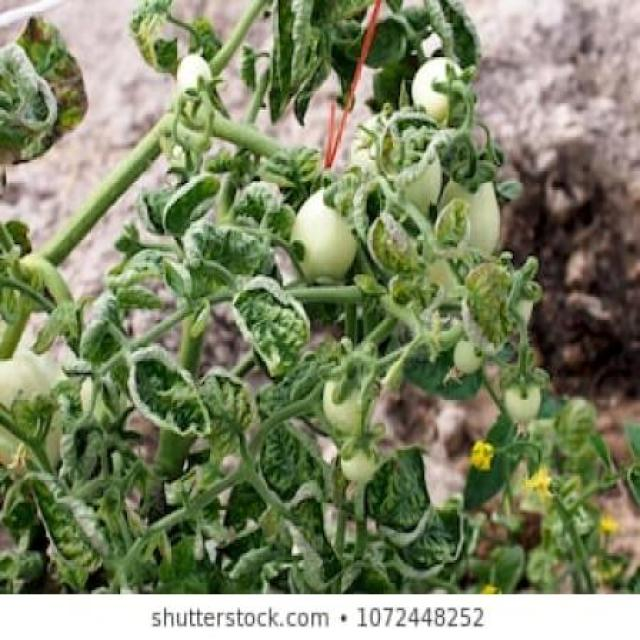Yellow Leaf Curl Virus: (23, 457, 117, 584), (225, 276, 318, 375), (359, 430, 434, 551), (127, 343, 214, 438), (260, 421, 330, 516), (463, 258, 514, 375), (232, 172, 298, 255), (364, 205, 435, 282), (188, 214, 281, 270), (190, 368, 256, 439), (164, 167, 222, 243), (434, 198, 474, 258)
